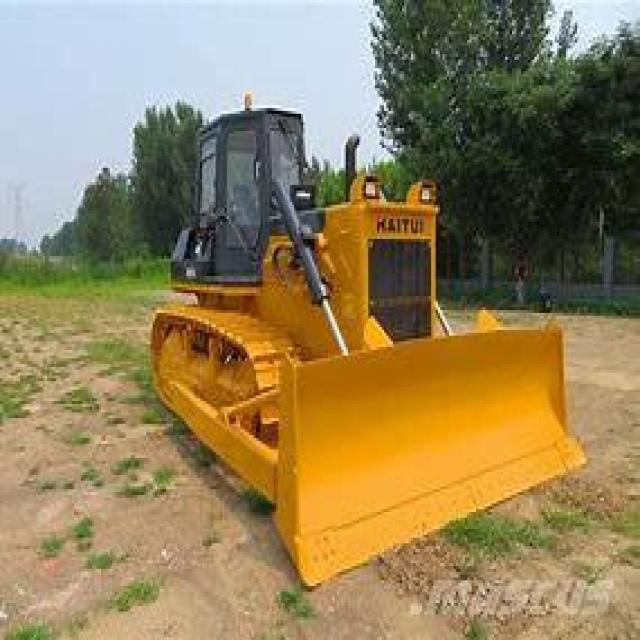Bulldozer: (128, 86, 609, 594)
